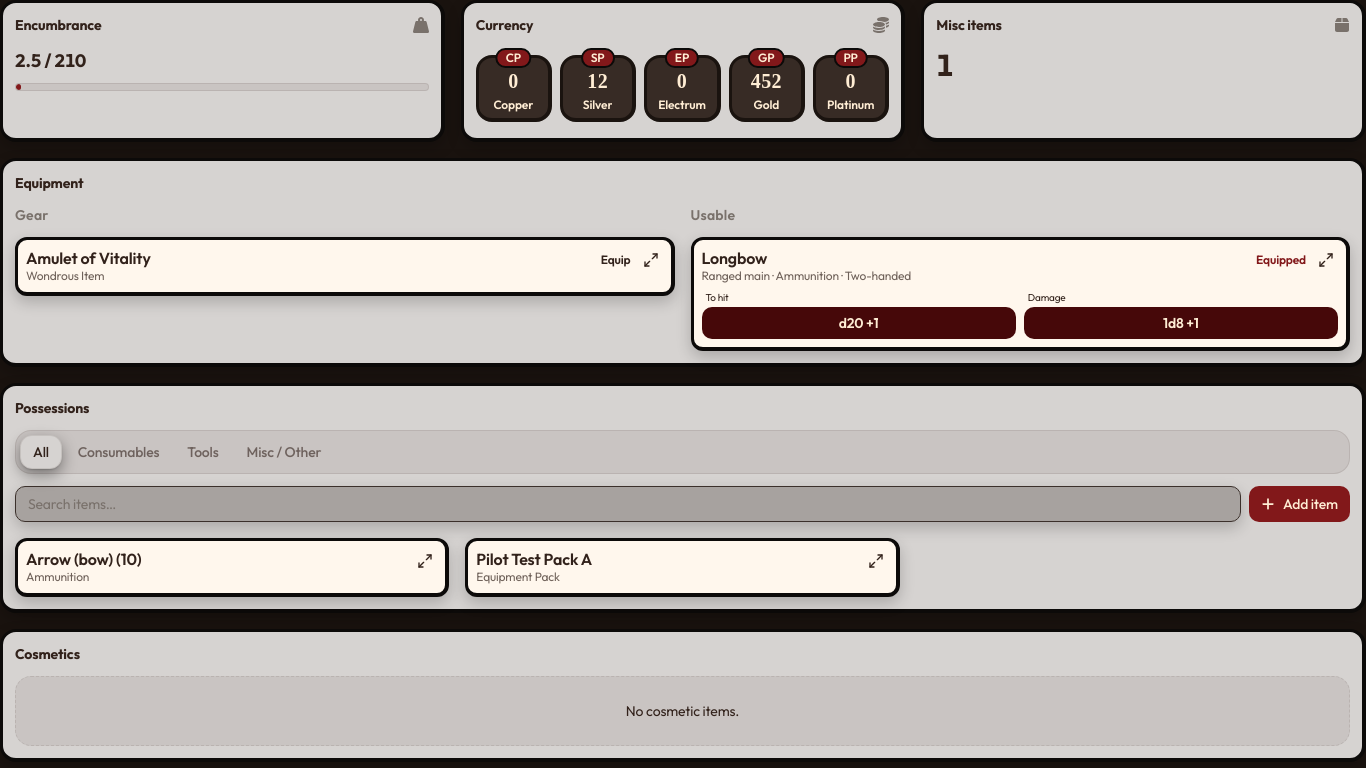
Scenario: InventoryTab equip actions › shows Equip next to Delete in the item modal footer
Click the button named "Expand Amulet of Vitality": (650, 260) x1=638 y1=248 x2=662 y2=272
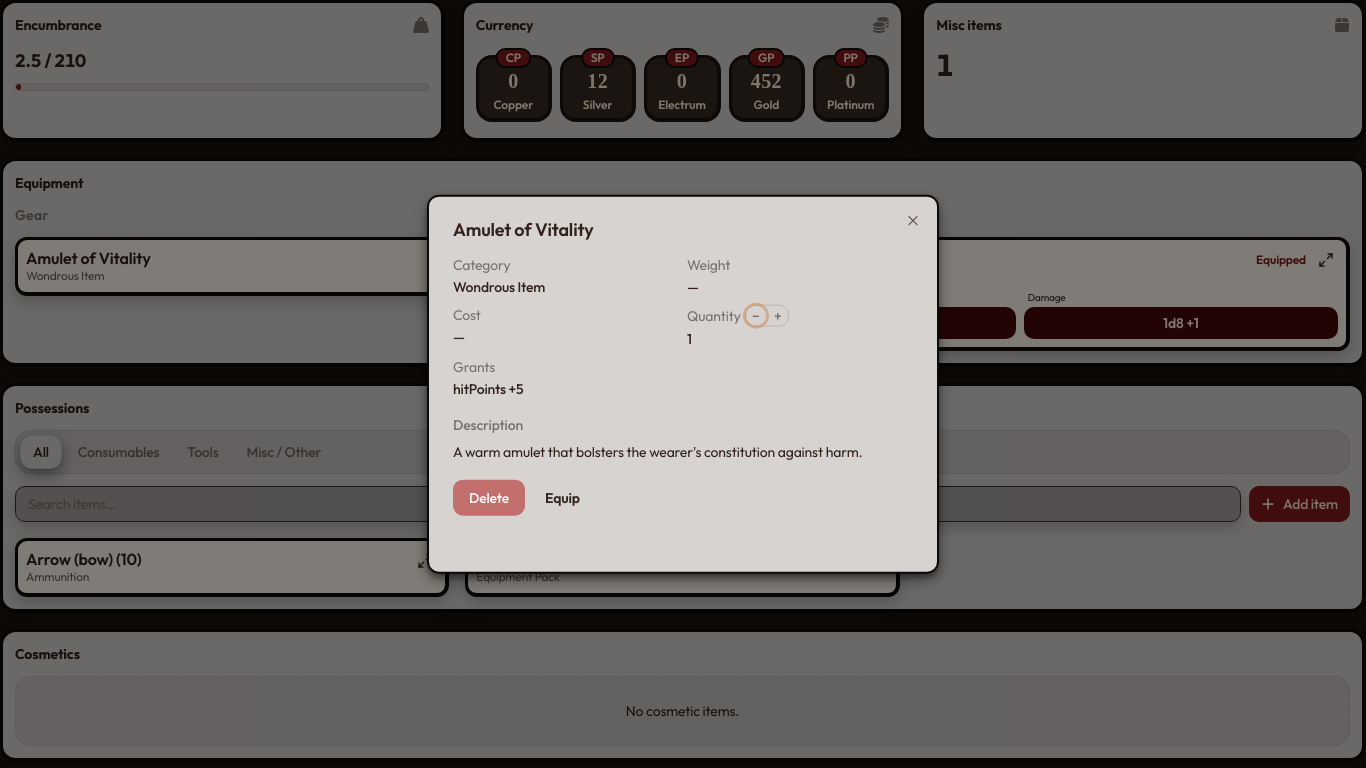
Result: the button "Delete" is shown at x1=453 y1=479 x2=525 y2=515
Click the button "Equip": (562, 497) x1=533 y1=479 x2=592 y2=515
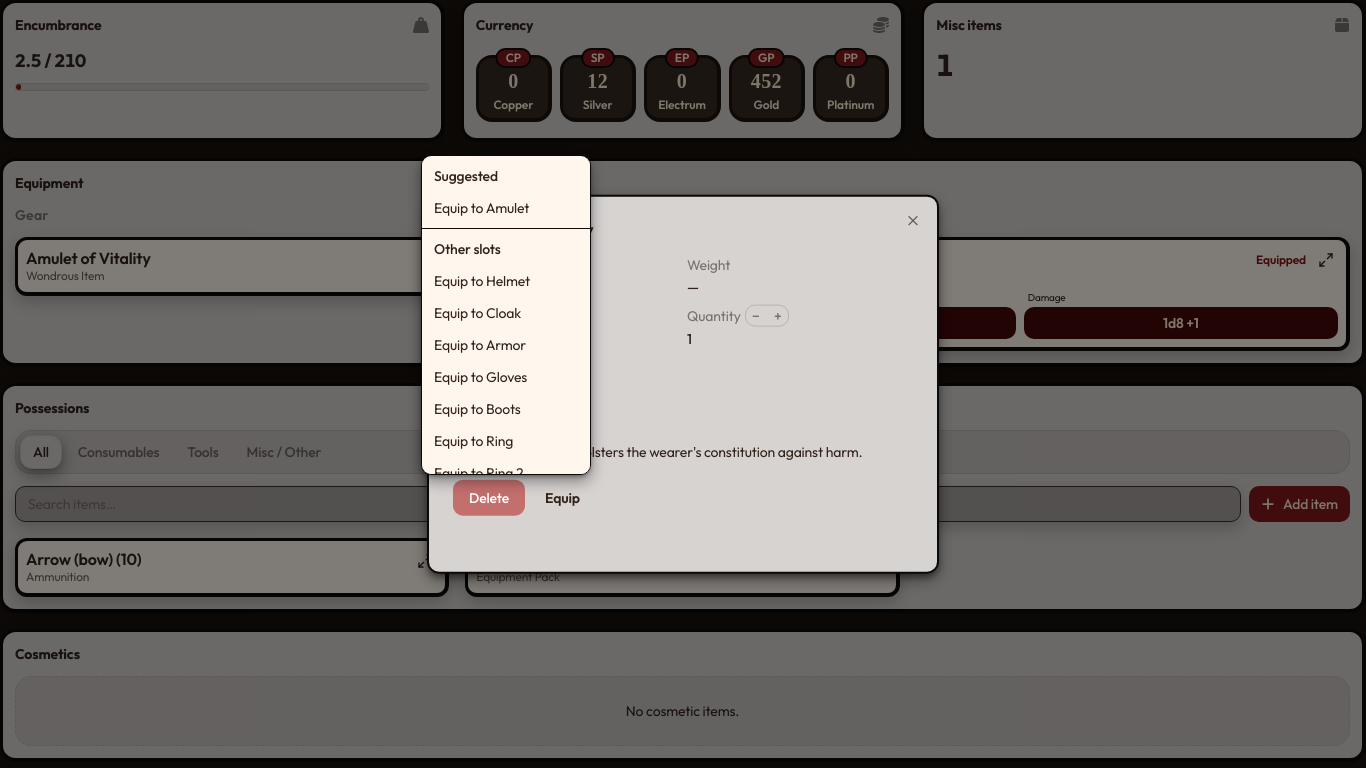
Result: the menu item "Equip to Amulet" is shown at x1=434 y1=199 x2=529 y2=217
